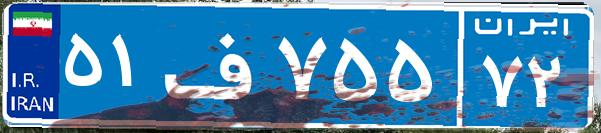1: (110, 28, 158, 105)
2: (525, 38, 570, 115)
5: (385, 28, 445, 110), (330, 28, 385, 110), (57, 26, 110, 107)
7: (273, 28, 330, 110), (475, 38, 525, 113)
ف: (158, 15, 273, 115)
